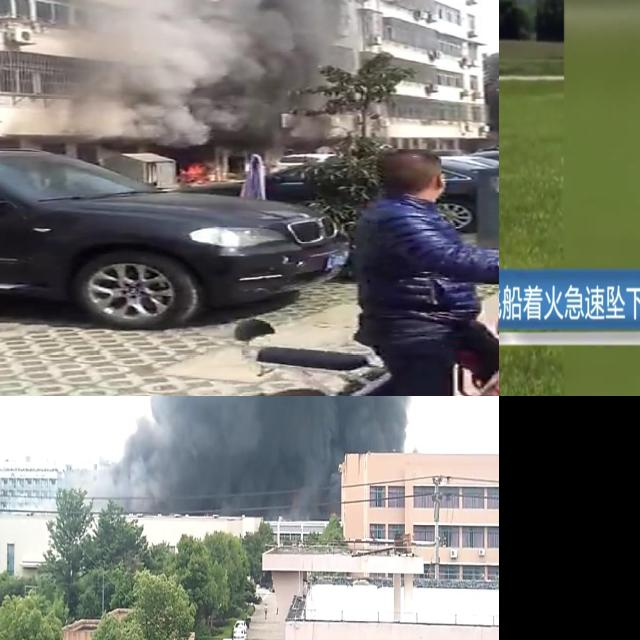fire: (179, 161, 209, 181)
smoke: (109, 396, 436, 509), (73, 0, 339, 120)
